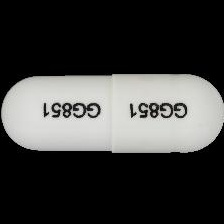0781-2145: (0, 0, 224, 224)
